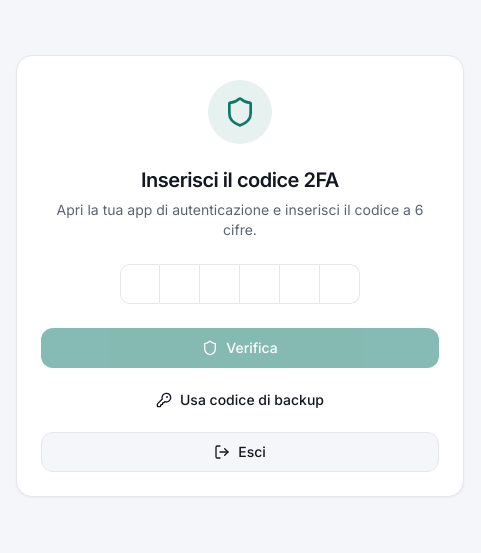
Test case: MfaVerifyPage › shows server-side lockout when server returns locked (AC5 — H2 fix)
Step 1. Click the button "Usa codice di backup" → (240, 400), box x1=41 y1=380 x2=439 y2=420
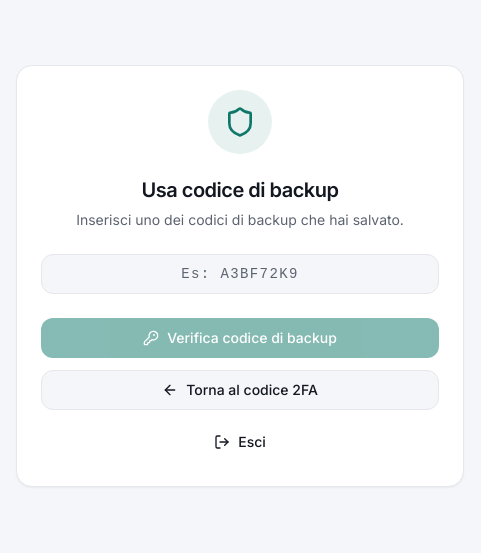
Step 2. Type "WRONGCODE" into the field with placeholder "Es: A3BF72K9" → (240, 274), box x1=41 y1=254 x2=439 y2=294
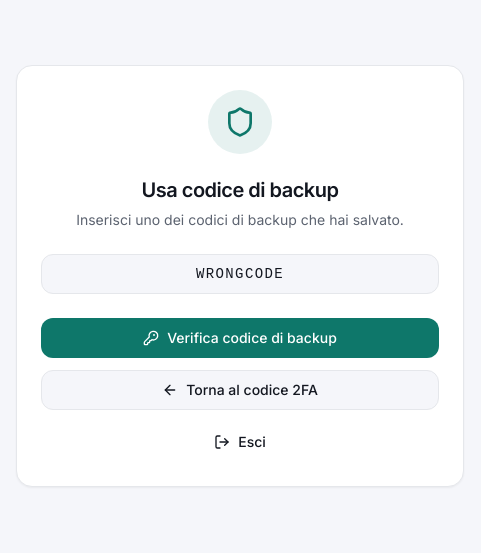
Step 3. Click the button "Verifica codice di backup" → (240, 338), box x1=41 y1=318 x2=439 y2=358
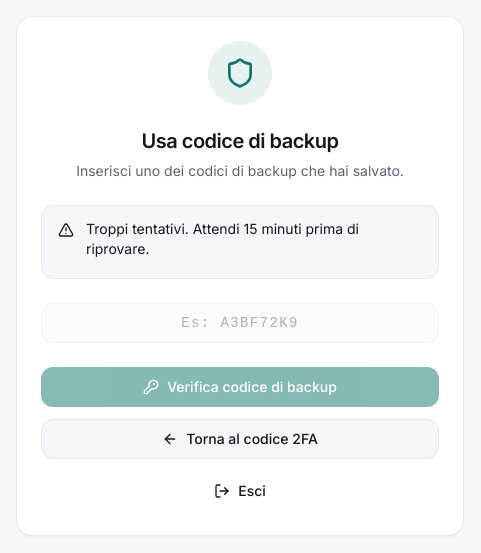
Expected: the text "Troppi tentativi. Attendi 15 minuti prima di riprovare." is shown, x1=86 y1=220 x2=359 y2=257
